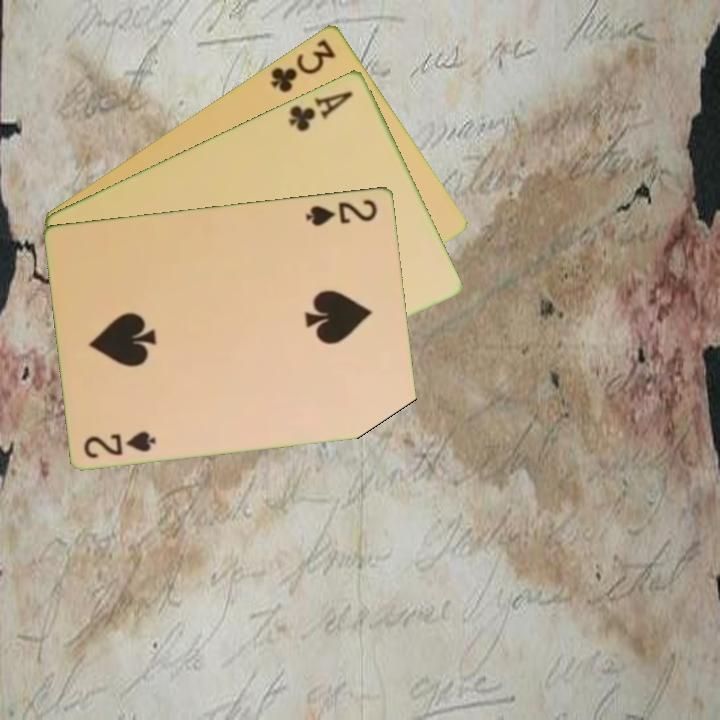2s: (80, 427, 160, 461), (302, 195, 381, 228)
3c: (266, 35, 339, 95)
Ac: (284, 87, 356, 134)
